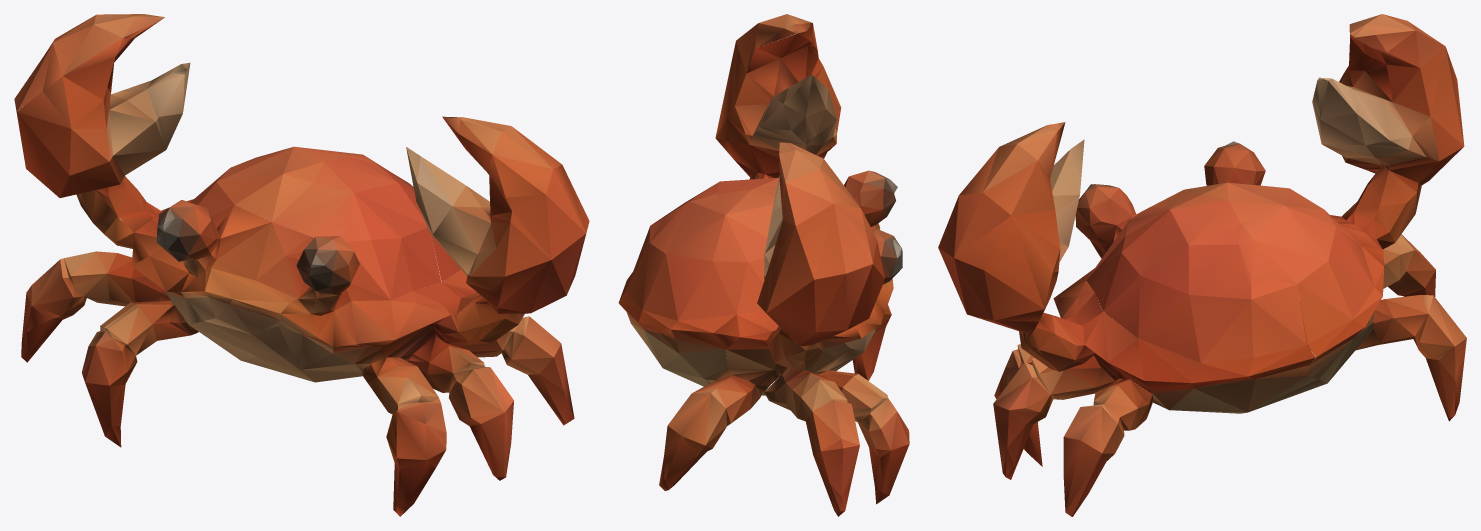
Rendered from animal-crab.glb.
The picture shows the model from 3 angles, left to right: view 1: azimuth 30°, elevation 25°; view 2: azimuth 150°, elevation 25°; view 3: azimuth 270°, elevation 25°; orthographic projection. The views are drawn at different scales.
Parts seen in each view (by area): view 1: 0_crab; view 2: 0_crab; view 3: 0_crab.
Part boxes in pixels (<box>): 0_crab: <box>14,14,589,516</box>; 0_crab: <box>618,14,909,516</box>; 0_crab: <box>938,14,1466,516</box>.
Size of the model in its own units: 0.2474 by 0.2478 by 0.3.
